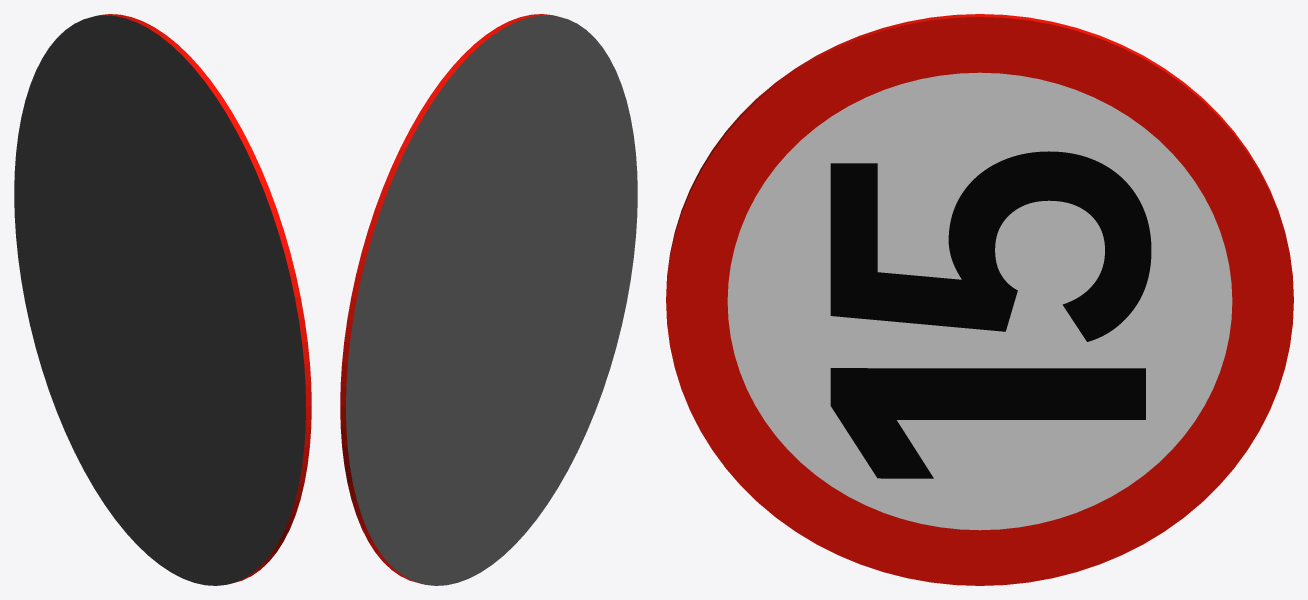
The picture shows the model from 3 angles, left to right: view 1: azimuth 30°, elevation 25°; view 2: azimuth 150°, elevation 25°; view 3: azimuth 270°, elevation 25°; orthographic projection. The views are drawn at different scales.
Visible parts, largest first — view 1: 圆环; view 2: 圆环; view 3: 圆环, 文本.
Boxes of the visible parts, x1,y1,x2,y2 form: 圆环: [14, 14, 311, 585]; 圆环: [340, 14, 637, 585]; 圆环: [666, 14, 1293, 585]; 文本: [830, 151, 1151, 478].
Size of the model in its own units: 0.0113 by 0.8 by 0.8.
